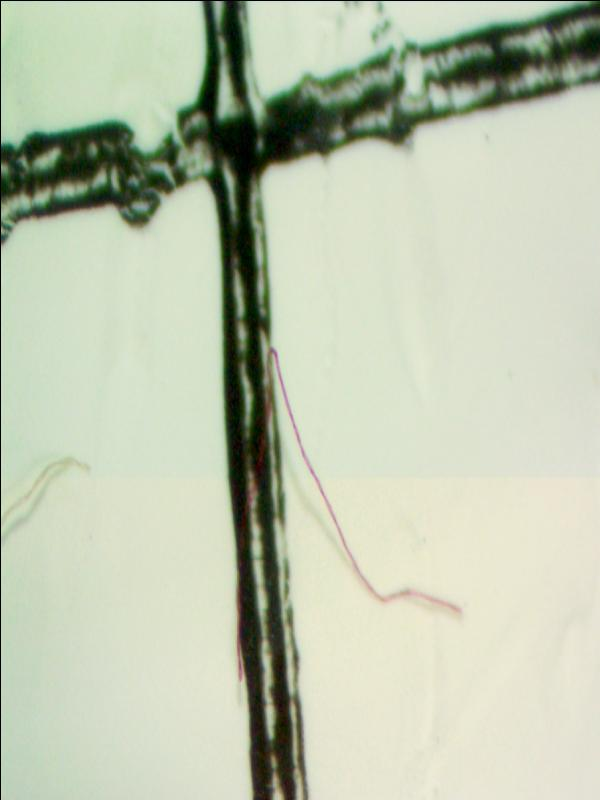microplastic: (1, 2, 597, 799)
